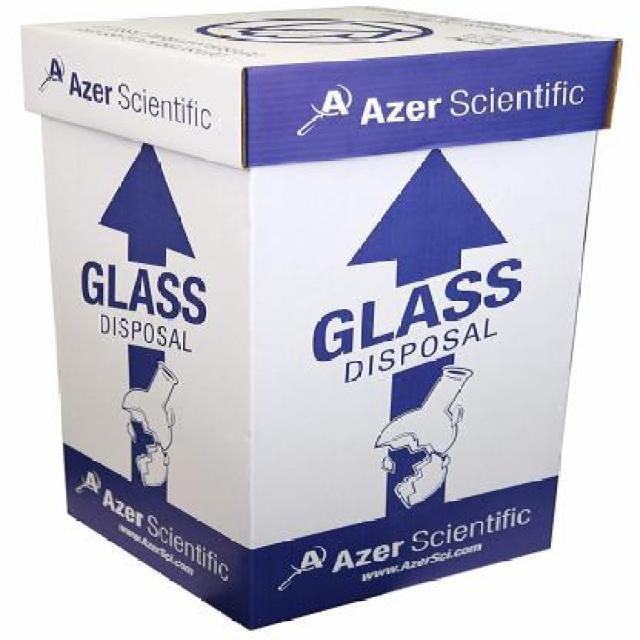box: (21, 5, 618, 630)
